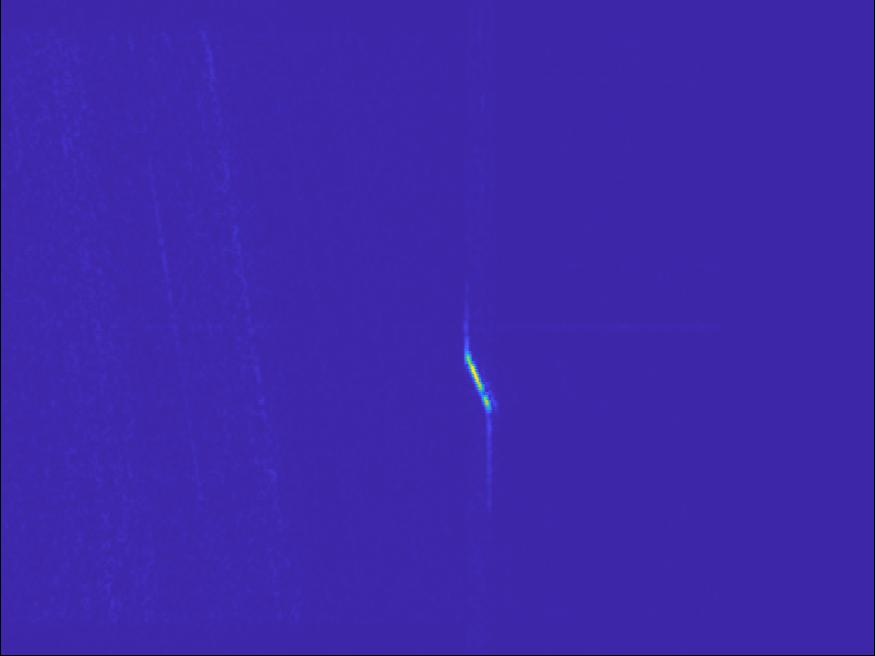Interference: (332, 292, 555, 364), (541, 570, 685, 656), (116, 83, 235, 123), (12, 277, 116, 321), (623, 1, 701, 32)
